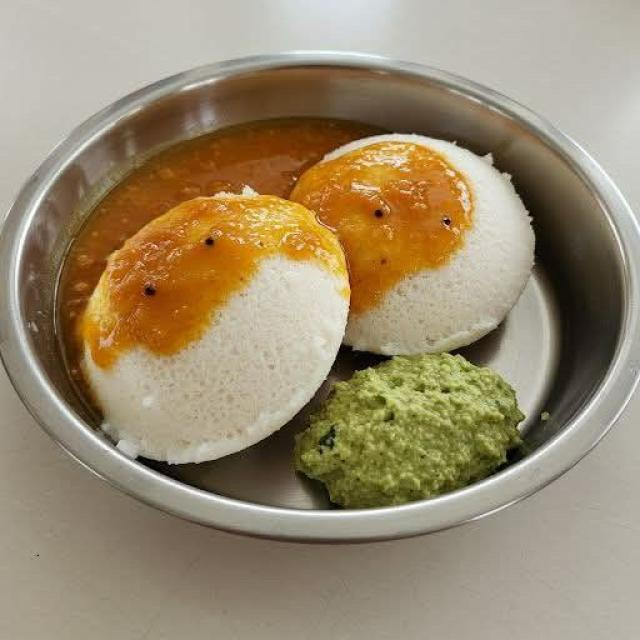chutney: (299, 357, 508, 501)
idly: (85, 208, 356, 448), (301, 130, 543, 353)
